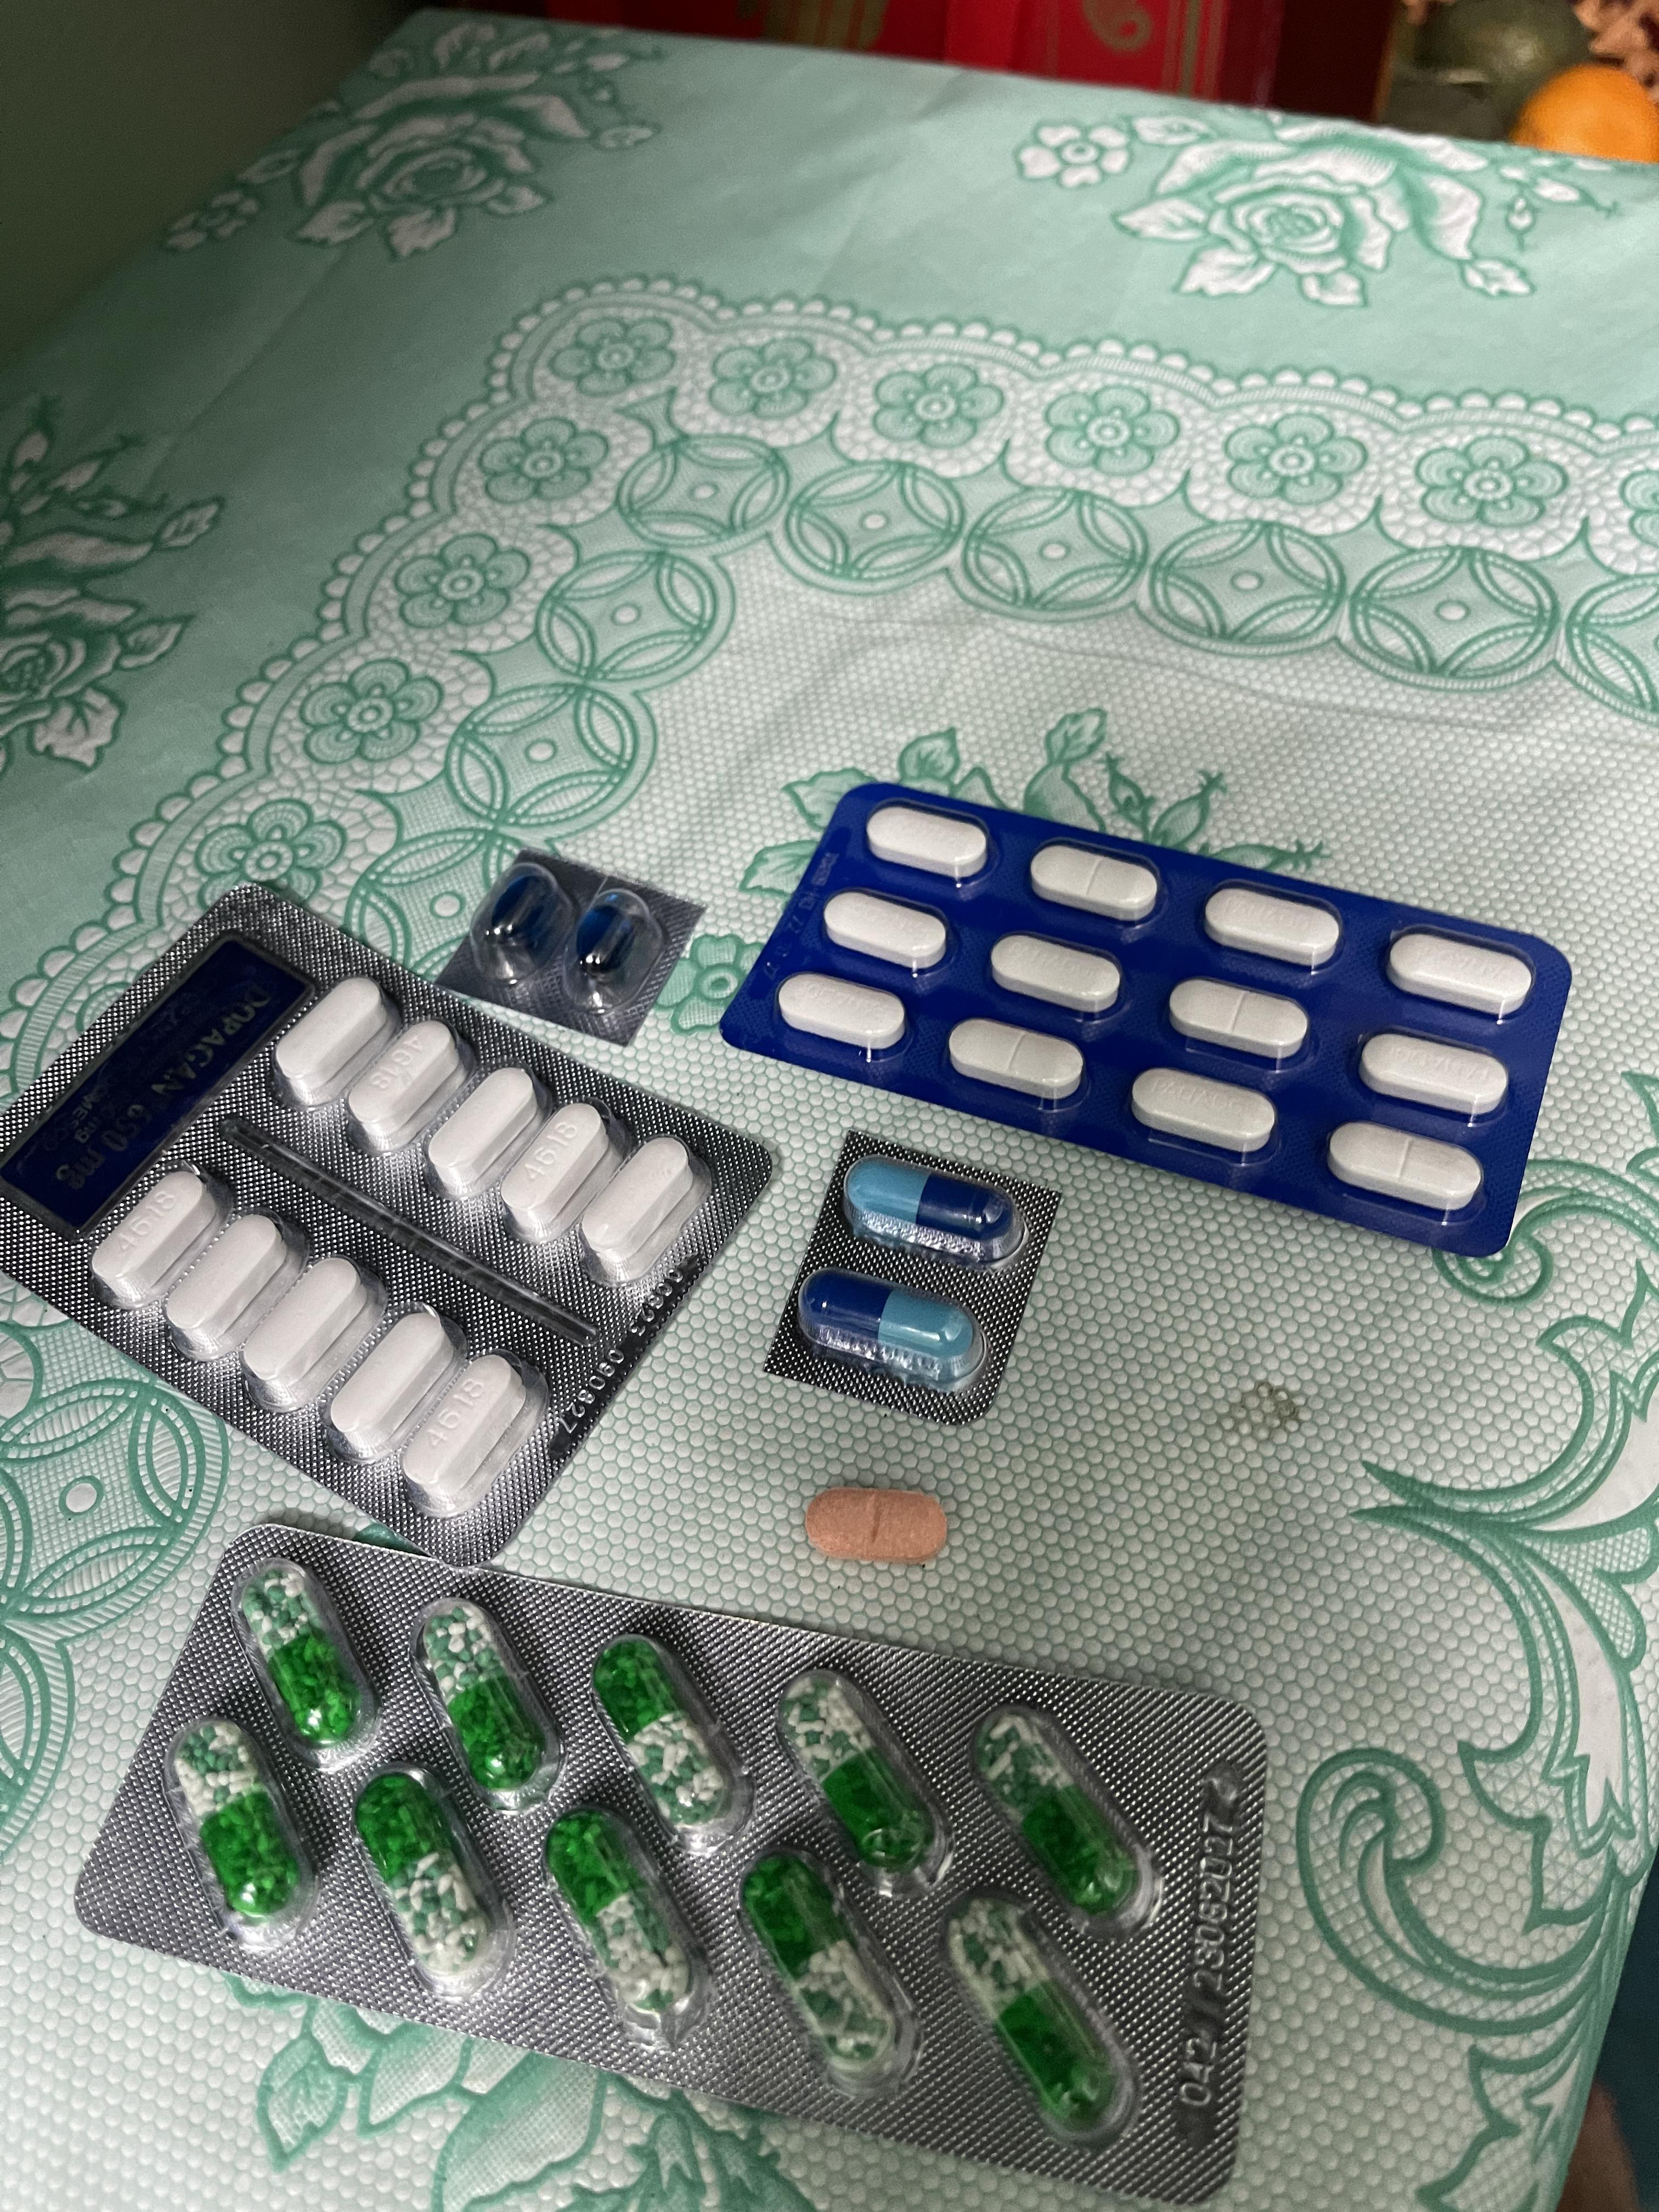Lincomyxin_500mg: (573, 894, 641, 977), (486, 871, 554, 946)
Loratadine_10mg: (805, 1486, 950, 1564)
Paracetamol_350mg: (1330, 1123, 1481, 1214), (1387, 928, 1537, 1017), (1359, 1029, 1507, 1116), (1131, 1068, 1276, 1153), (1166, 977, 1307, 1061), (1201, 885, 1342, 967), (948, 1017, 1086, 1101), (992, 934, 1124, 1015), (781, 972, 910, 1054), (824, 888, 950, 972), (1030, 843, 1162, 921), (868, 805, 995, 881)
Paracetamol_500mg: (401, 1350, 538, 1514), (240, 1251, 383, 1407), (164, 1211, 300, 1362), (328, 1308, 462, 1461), (579, 1136, 706, 1287), (493, 1096, 617, 1245), (89, 1169, 220, 1308), (425, 1068, 547, 1207), (345, 1019, 469, 1155), (274, 977, 397, 1106)
Paracetamol_650mg: (951, 1890, 1140, 2146), (748, 1844, 911, 2092), (350, 1766, 504, 1987), (549, 1813, 695, 2040), (981, 1709, 1138, 1912), (599, 1639, 744, 1841), (178, 1721, 308, 1923), (788, 1679, 929, 1865), (423, 1601, 554, 1797), (235, 1566, 364, 1743)
pill: (802, 1271, 986, 1388), (843, 1157, 1026, 1266)
